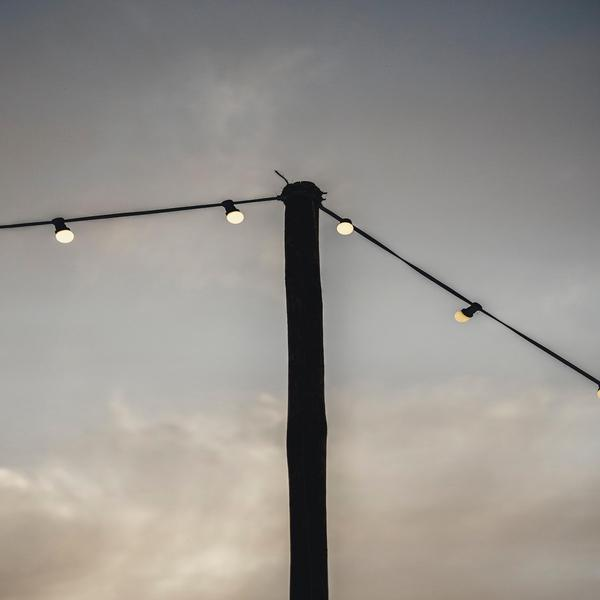utility_pole: (221, 163, 362, 292)
